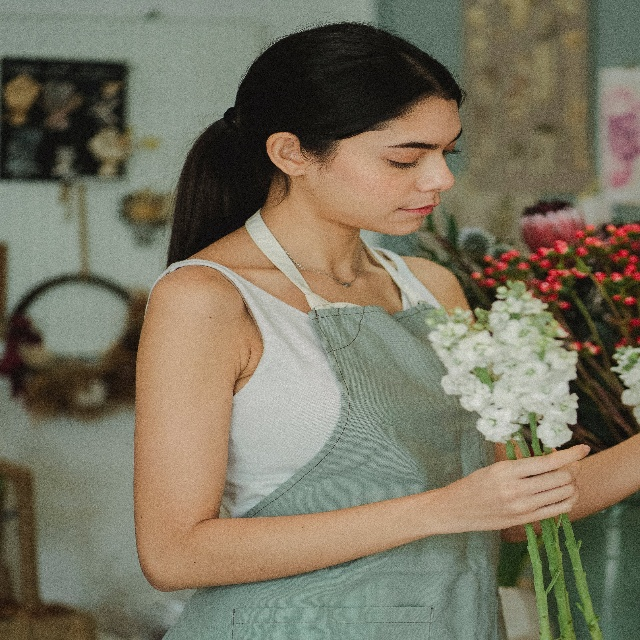Sin_guantes: (446, 442, 592, 534)
